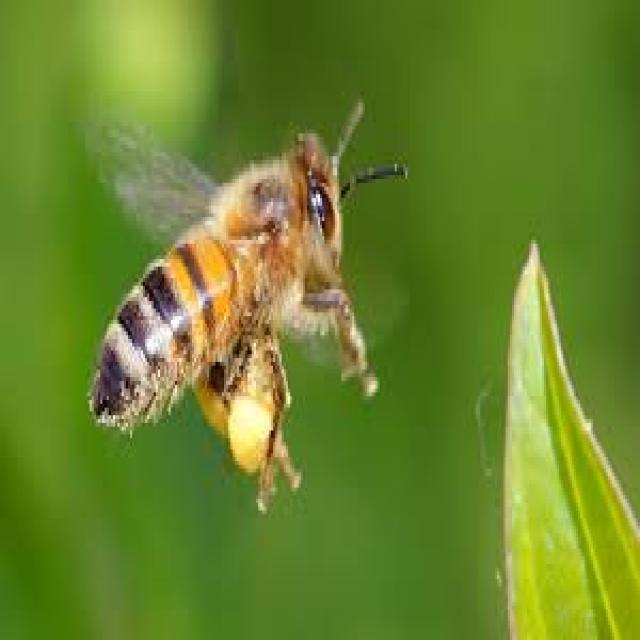Bees: (87, 96, 410, 518)
